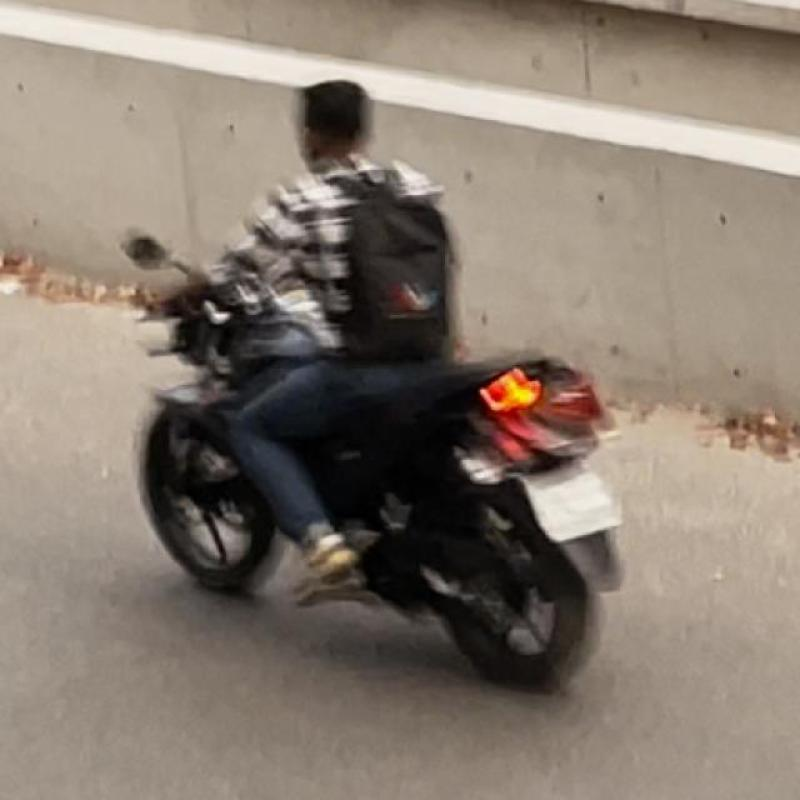nohelmet: (274, 60, 455, 192)
